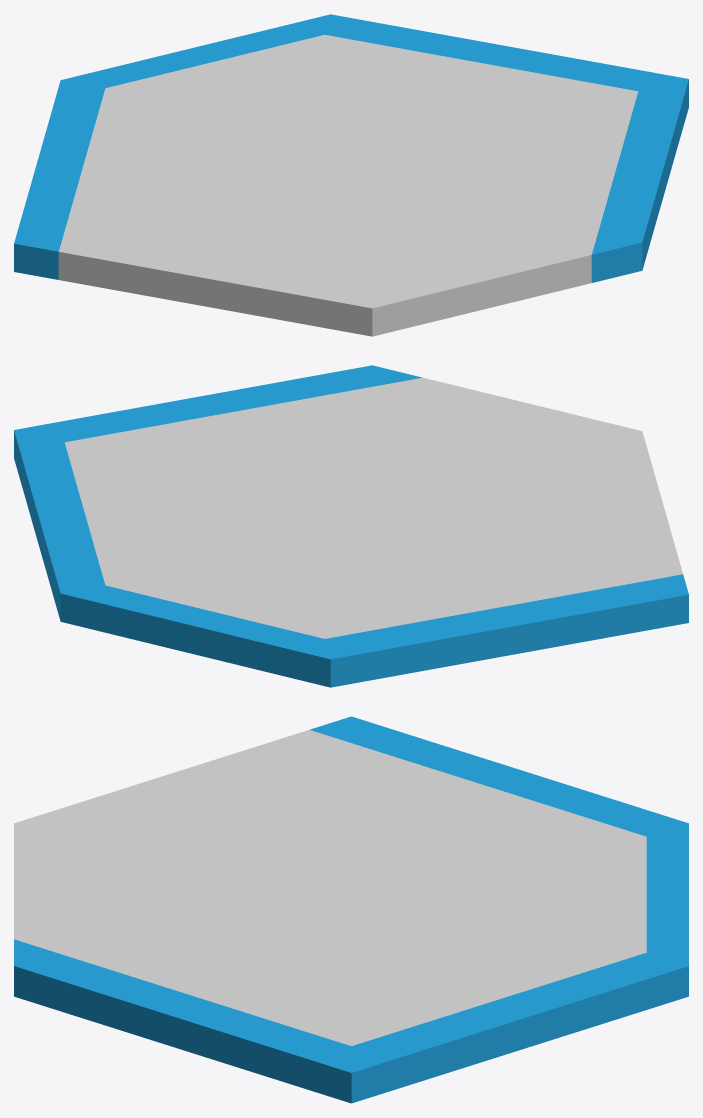
The picture shows the model from 3 angles, top to bottom: view 1: azimuth 30°, elevation 25°; view 2: azimuth 150°, elevation 25°; view 3: azimuth 270°, elevation 25°; orthographic projection. The views are drawn at different scales.
Visible parts, largest first — view 1: Hexagon, SE, NW, NE, N; view 2: Hexagon, NW, N, NE, SE; view 3: Hexagon, SE, NE, NW, N.
Boxes of the visible parts, <box> form: Hexagon: <box>58,35,638,336</box>; SE: <box>591,79,688,282</box>; NW: <box>14,80,105,279</box>; NE: <box>325,14,687,91</box>; N: <box>61,14,330,88</box>; Hexagon: <box>64,377,682,638</box>; NW: <box>325,574,688,687</box>; N: <box>60,585,330,687</box>; NE: <box>14,430,104,620</box>; SE: <box>15,365,421,442</box>; Hexagon: <box>14,730,646,1045</box>; SE: <box>14,939,351,1103</box>; NE: <box>351,952,688,1103</box>; NW: <box>309,716,688,836</box>; N: <box>646,823,688,965</box>.
Bounding box in the file's own units: 5 × 4 × 0.2.
